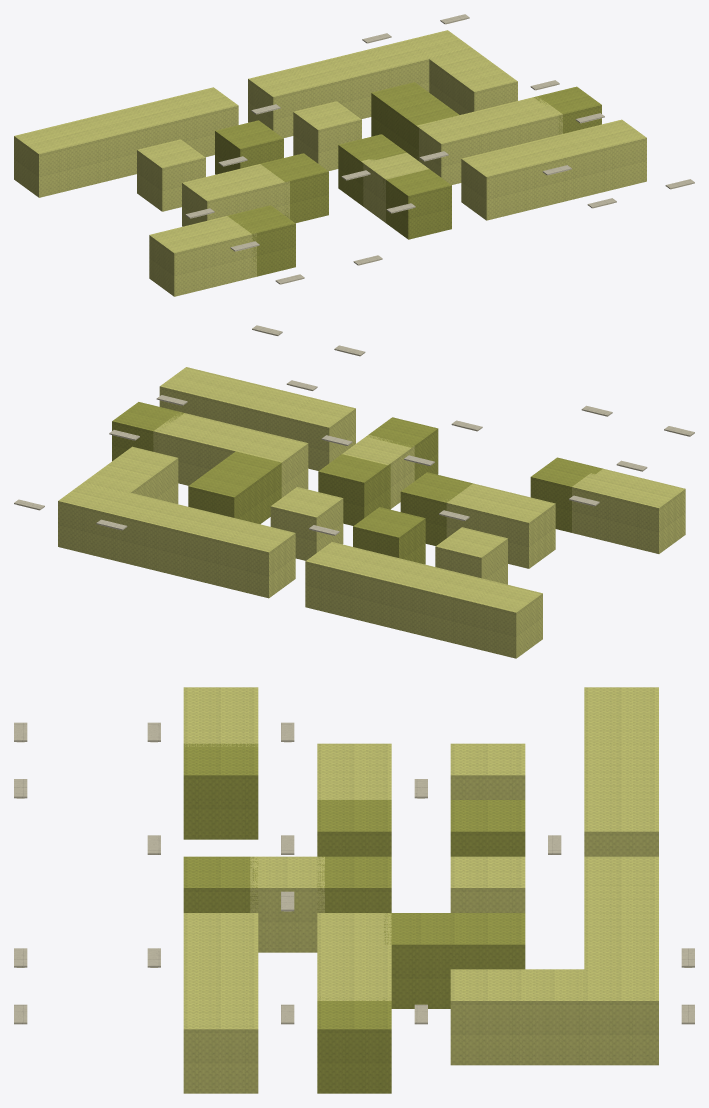
The model's file is level0_walls_1_0.obj.
3 renders of one model, top to bottom at view 1: azimuth 30°, elevation 25°; view 2: azimuth 150°, elevation 25°; view 3: azimuth 270°, elevation 25°, orthographic. The views are drawn at different scales.
Bounding box in the file's own units: 36.35 × 3.2 × 30.6.
4 materials, 3 textured.
